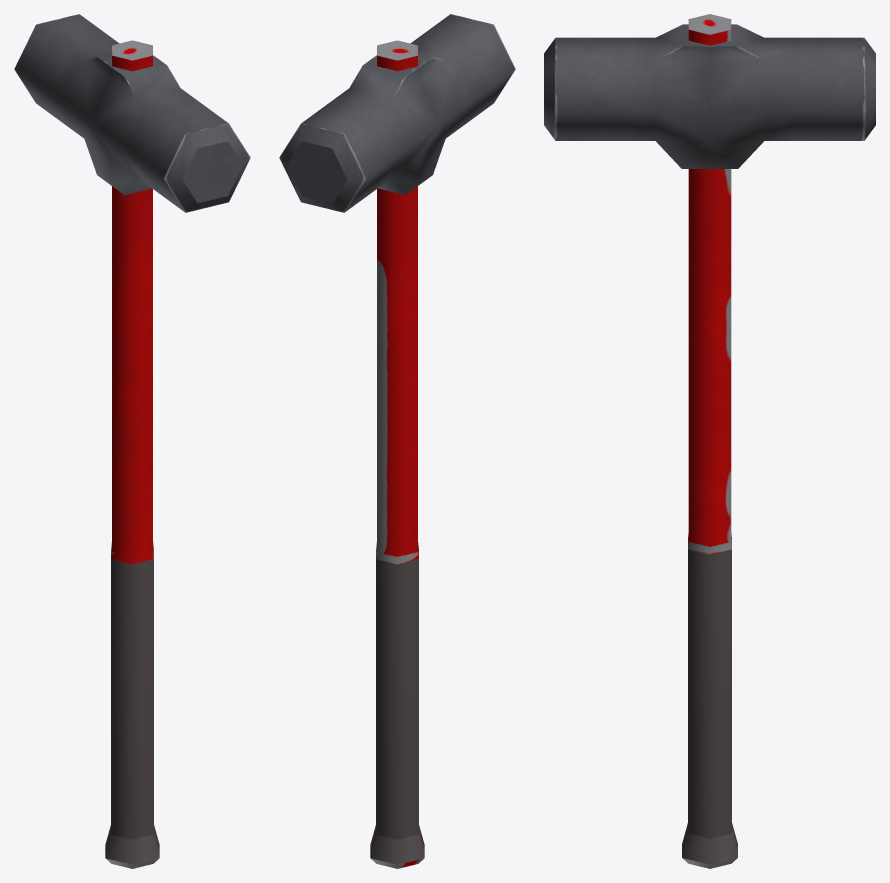
File: MeleeWeaponAgent_Hammer_Tagilla.fbx
3 renders of one model, left to right at view 1: azimuth 30°, elevation 25°; view 2: azimuth 150°, elevation 25°; view 3: azimuth 270°, elevation 25°, orthographic. The views are drawn at different scales.
Visible parts, largest first — view 1: Hammer_Mid; view 2: Hammer_Mid; view 3: Hammer_Mid.
Boxes of the visible parts, x1,y1,x2,y2 form: Hammer_Mid: (14, 14, 250, 868); Hammer_Mid: (279, 14, 515, 868); Hammer_Mid: (544, 14, 875, 868).
Size of the model in its own units: 0.1682 by 1.5 by 0.5394.
